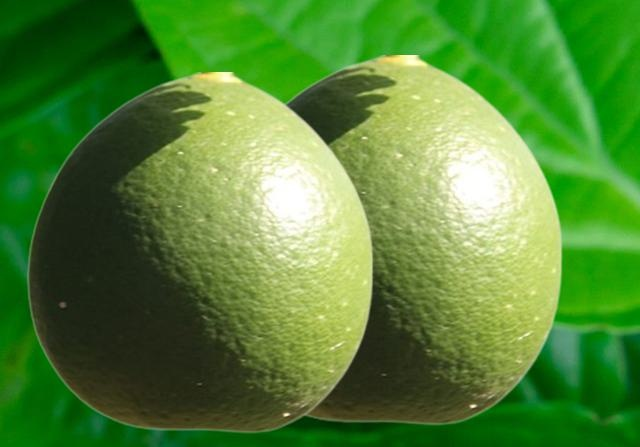dalandan: (26, 72, 373, 432), (284, 55, 562, 424)
